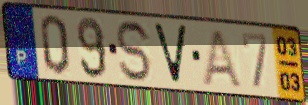0: (39, 13, 73, 78)
7: (240, 31, 270, 92)
9: (75, 15, 109, 82)
A: (200, 28, 245, 91)
S: (115, 19, 154, 84)
V: (150, 20, 190, 87)
